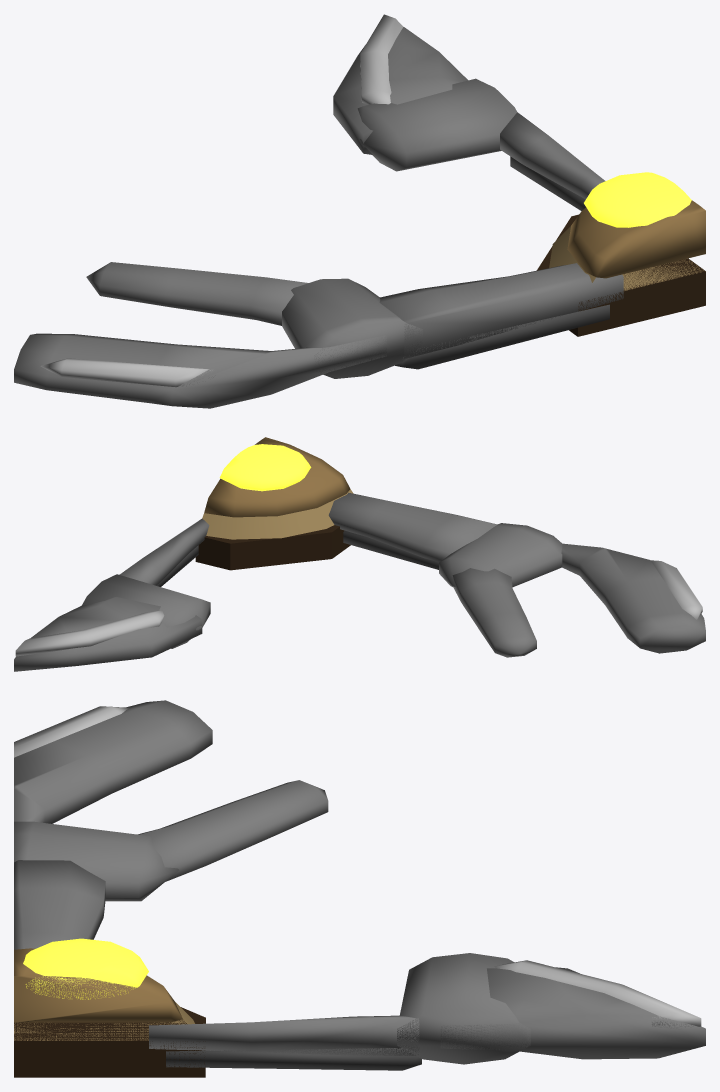
Rendered from newsh-hash-1-f3.glb.
The picture shows the model from 3 angles, top to bottom: view 1: azimuth 30°, elevation 25°; view 2: azimuth 150°, elevation 25°; view 3: azimuth 270°, elevation 25°; orthographic projection. The views are drawn at different scales.
Parts seen in each view (by area): view 1: newsh-hash-1-f3; view 2: newsh-hash-1-f3; view 3: newsh-hash-1-f3.
Part boxes in pixels (x1,y1,x2,y2): newsh-hash-1-f3: (14,14,705,408); newsh-hash-1-f3: (14,437,705,671); newsh-hash-1-f3: (14,700,705,1077).
Bounding box in the file's own units: 1.91 × 0.295 × 1.71.
